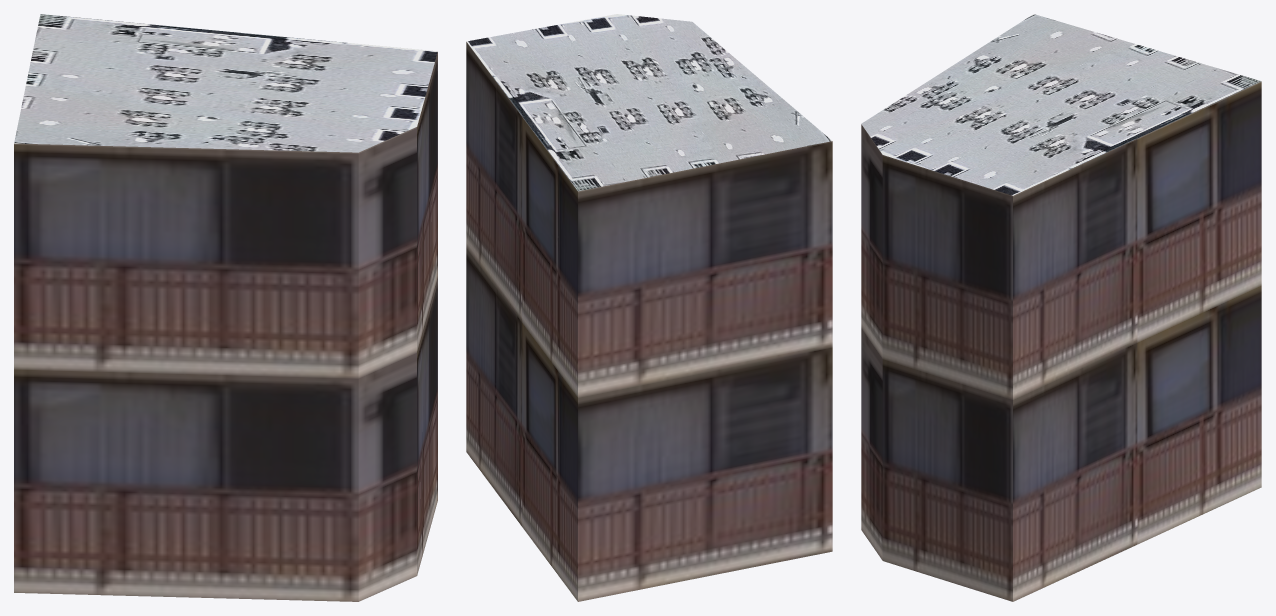
The model's file is ResTex__338.fbx.
3 renders of one model, left to right at view 1: azimuth 30°, elevation 25°; view 2: azimuth 150°, elevation 25°; view 3: azimuth 270°, elevation 25°, orthographic. The views are drawn at different scales.
Parts seen in each view (by area): view 1: CityEngineMaterial_6_m, CityEngineMaterial_m; view 2: CityEngineMaterial_6_m, CityEngineMaterial_m; view 3: CityEngineMaterial_6_m, CityEngineMaterial_m.
Boxes of the visible parts, x1,y1,x2,y2 form: CityEngineMaterial_6_m: (14,52,437,601); CityEngineMaterial_m: (14,14,437,152); CityEngineMaterial_6_m: (466,42,832,601); CityEngineMaterial_m: (466,14,831,191); CityEngineMaterial_6_m: (861,81,1261,601); CityEngineMaterial_m: (861,14,1261,195).
Size of the model in its own units: 5.76 by 6 by 5.36.
2 materials, 2 textured.
